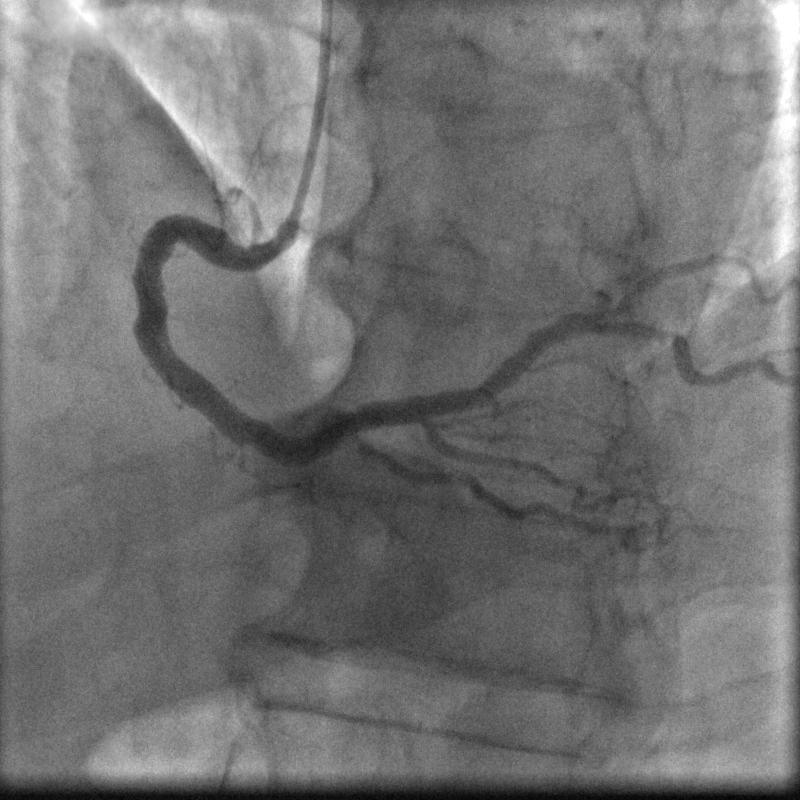Stenosis: (637, 320, 685, 350)
